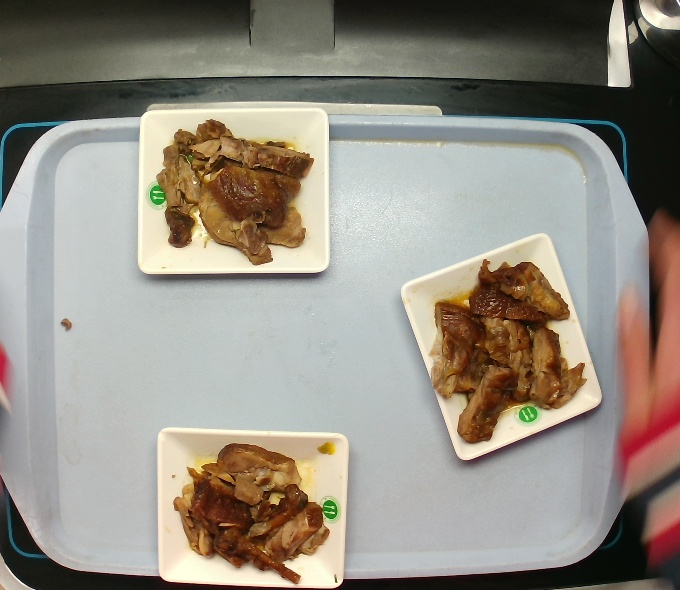wcq-YaRou: (423, 248, 593, 455), (151, 113, 320, 266), (172, 437, 336, 572)
